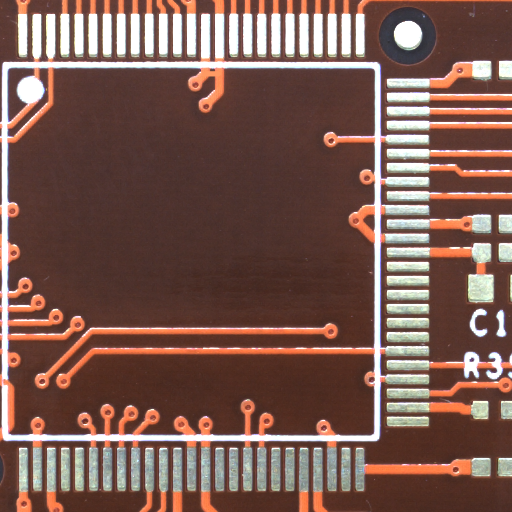Short: (211, 73, 225, 81)
